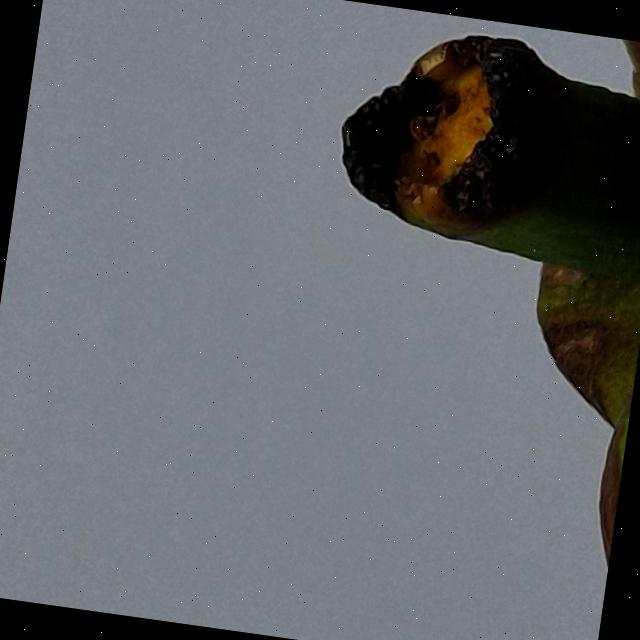mangosteen: (330, 10, 640, 640)
